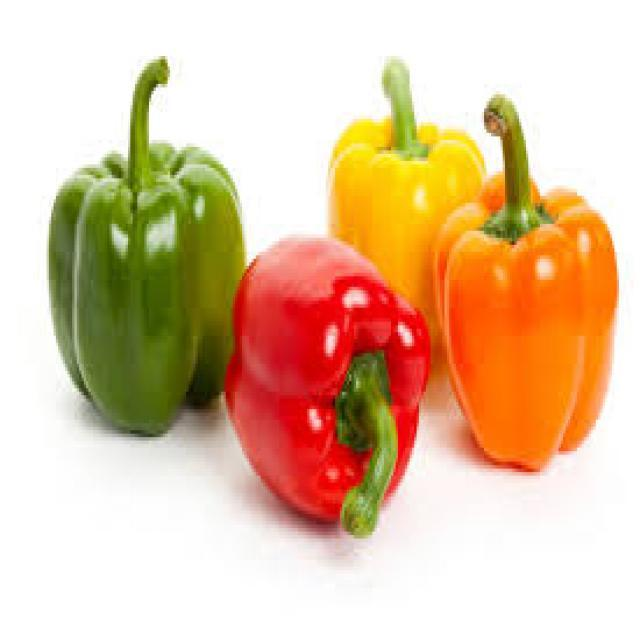Pepper: (46, 58, 246, 440), (437, 97, 618, 474), (224, 236, 432, 539), (327, 58, 486, 351)
